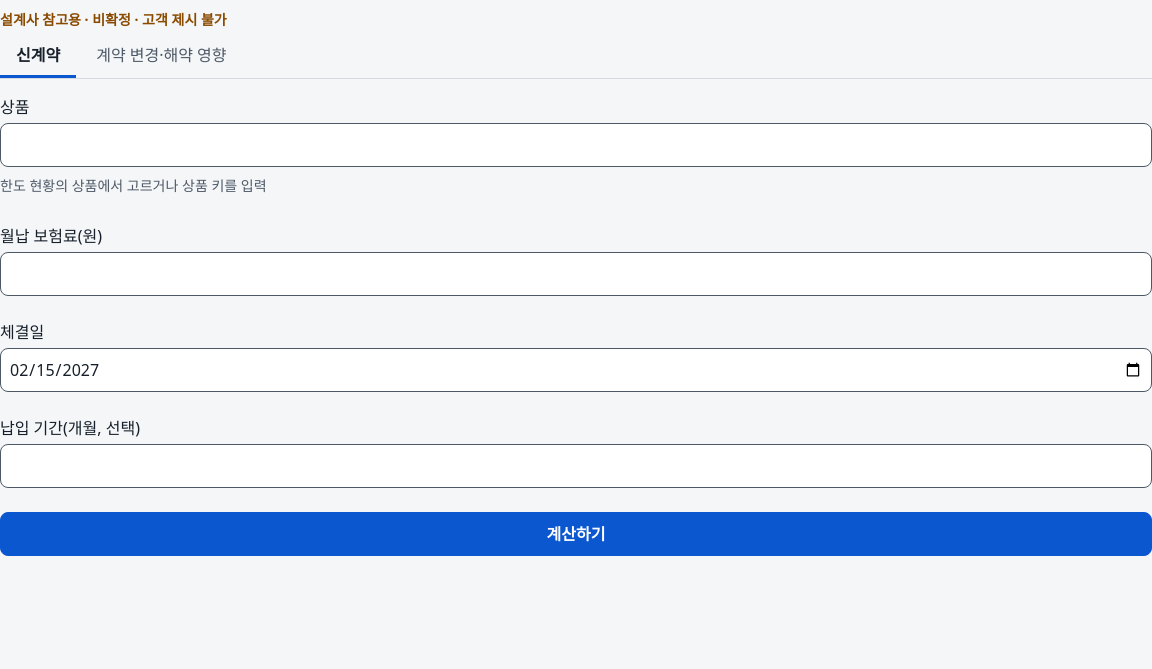
simulation › 429, 503, 502 and other 422s keep the last result and say why (Retry-After as given)
Type "WHOLE-LIFE-20Y" into the field labelled "상품 한도 현황의 상품에서 고르거나 상품 키를 입력". click: (576, 145)
box: [0, 123, 1151, 167]
Type "150000" into the field labelled "월납 보험료(원)". click: (576, 274)
box: [0, 252, 1151, 296]
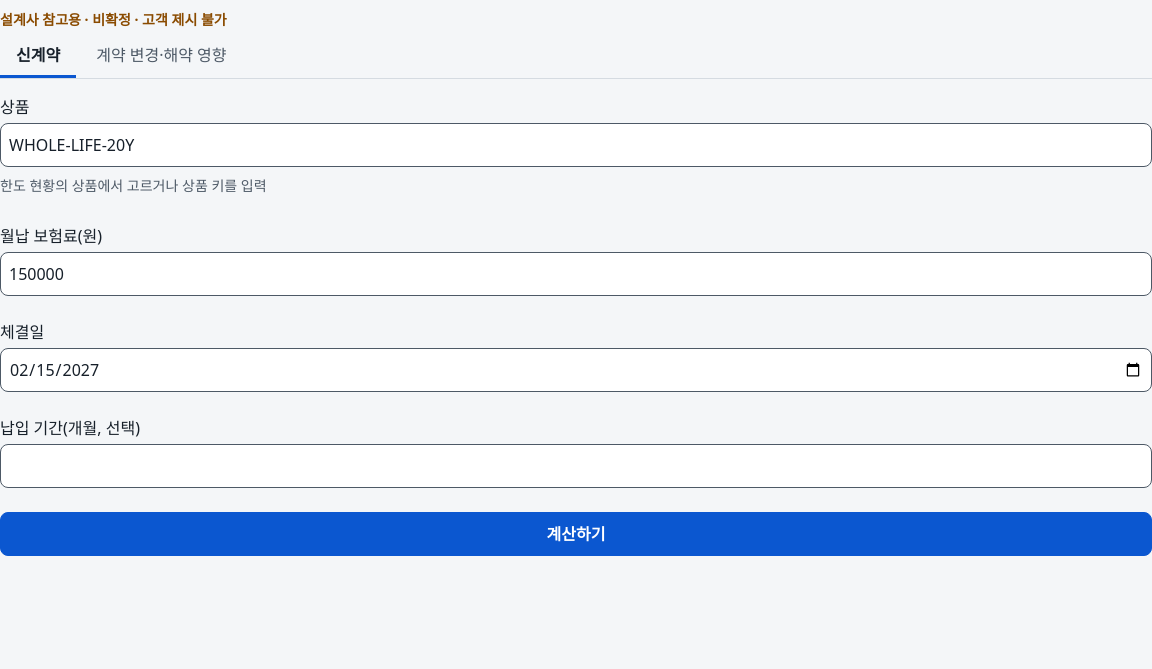
Submit the form with test id "form-new"
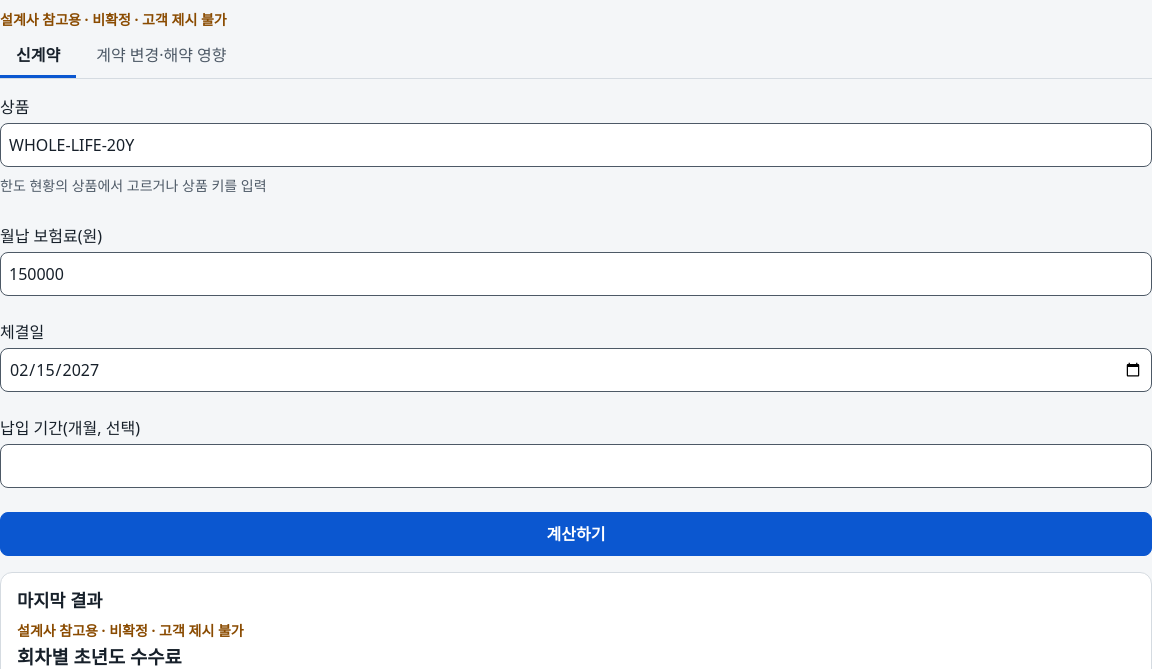
Submit the form with test id "form-new"
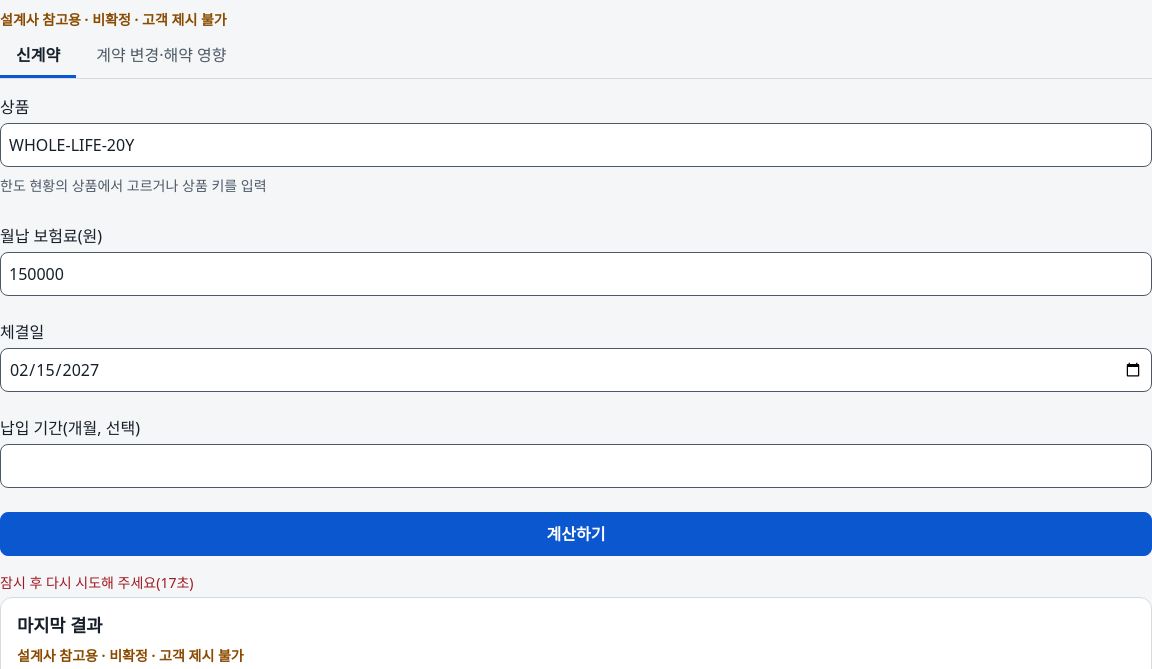
Result: the message with test id "sim-error" reads "잠시 후 다시 시도해 주세요(17초)" at [0, 573, 194, 592]
Submit the form with test id "form-new"
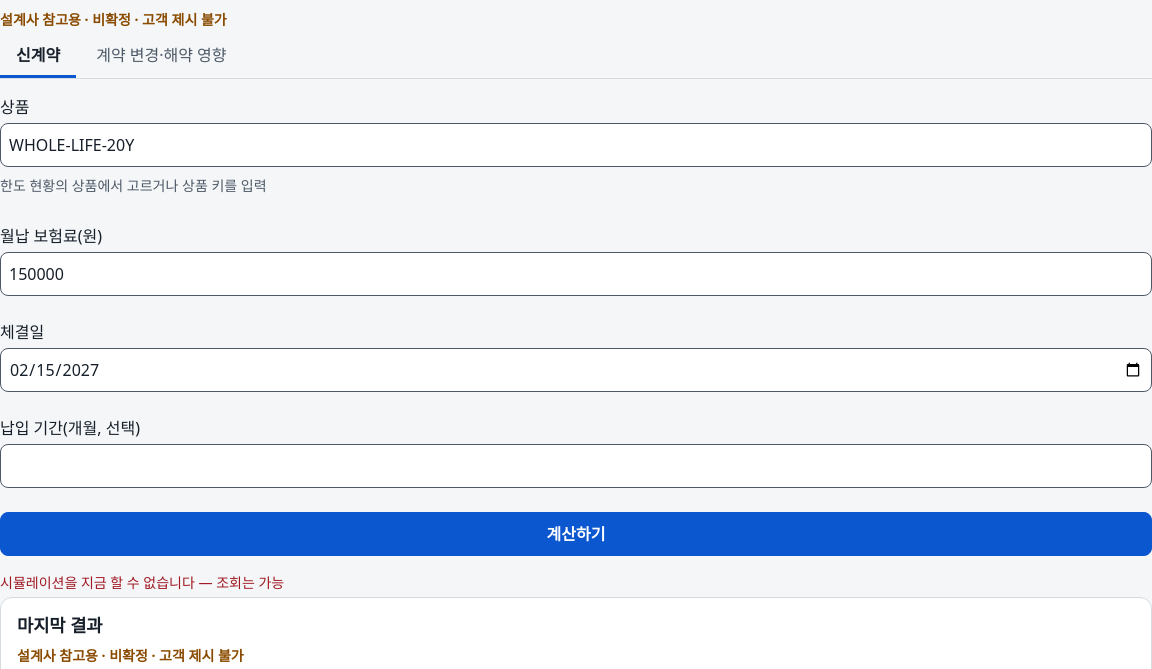
Result: the message with test id "sim-error" reads "시뮬레이션을 지금 할 수 없습니다 — 조회는 가능" at [0, 573, 284, 592]
Submit the form with test id "form-new"
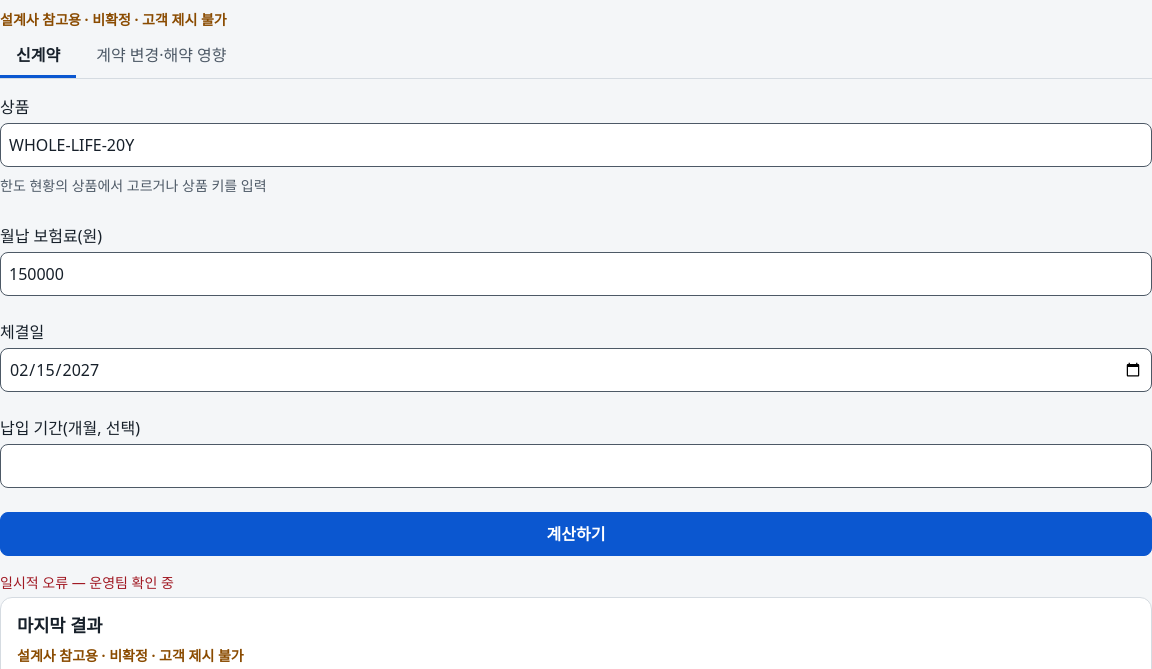
Result: the message with test id "sim-error" reads "일시적 오류 — 운영팀 확인 중" at [0, 573, 174, 592]
Submit the form with test id "form-new"
(page scrolled)
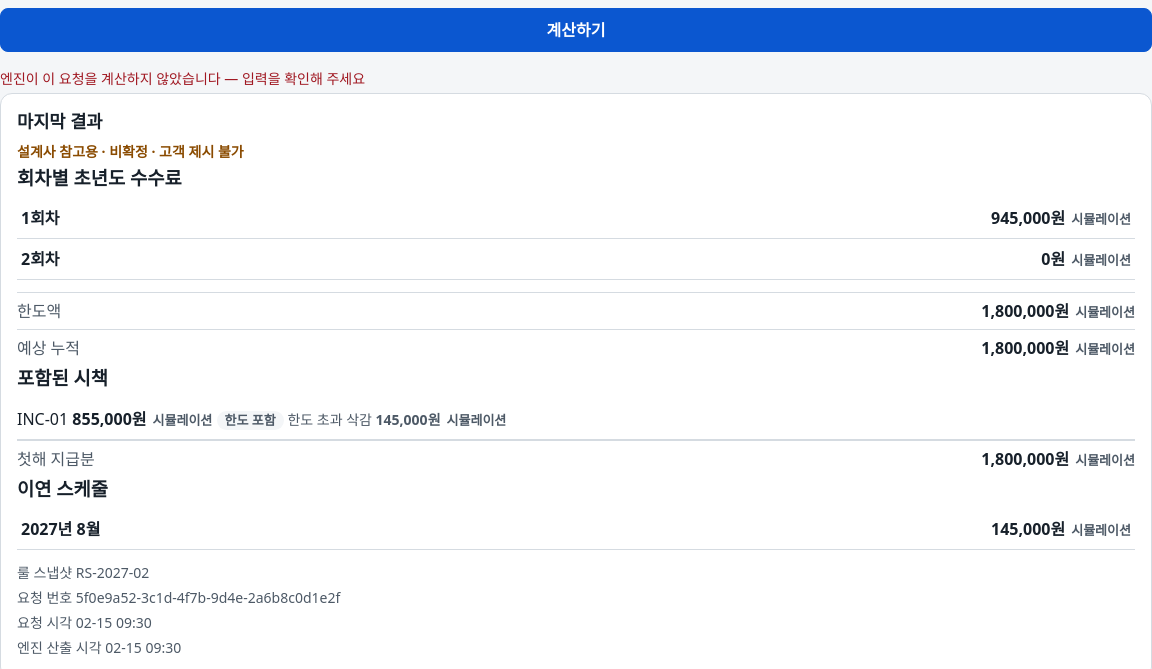
Result: the message with test id "sim-error" reads "엔진이 이 요청을 계산하지 않았습니다 — 입력을 확인해 주세요" at [0, 69, 365, 88]
